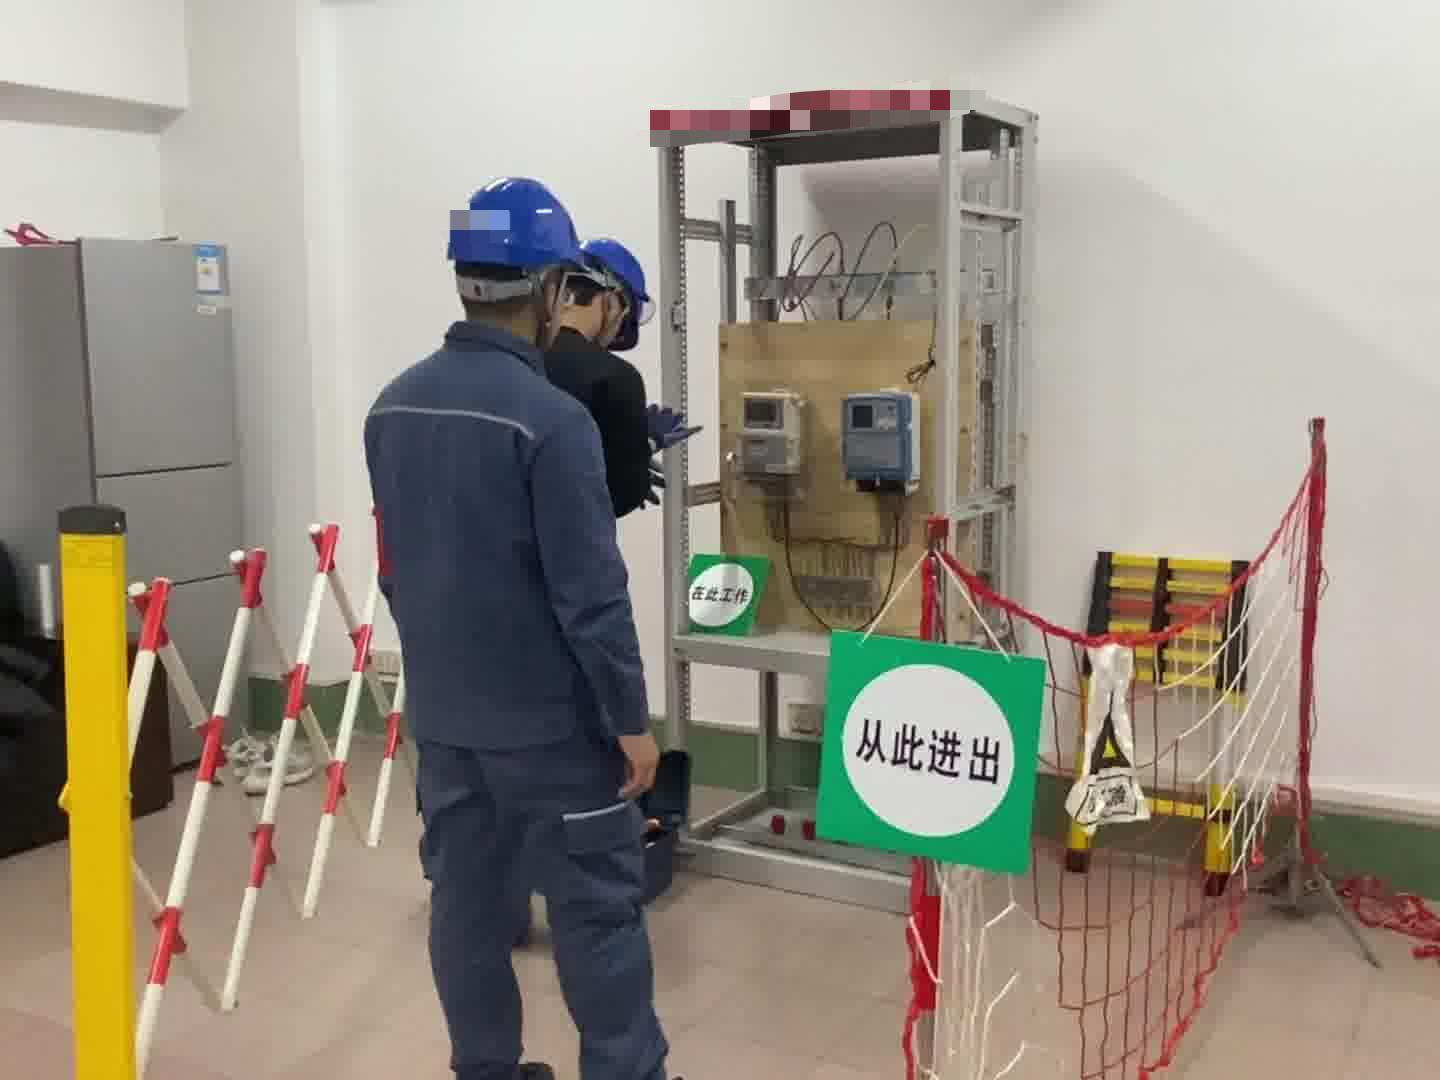halt: (446, 176, 591, 349), (552, 239, 654, 353)
inear: (527, 268, 571, 345), (596, 284, 639, 329)
